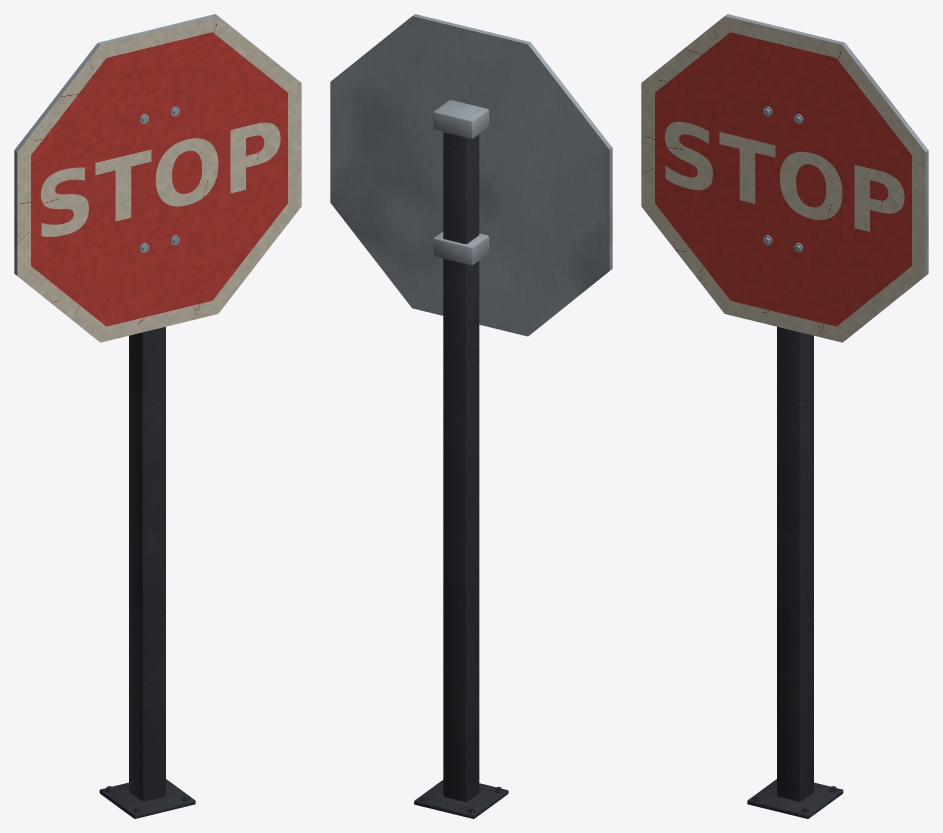
Rendered from stop_sign.glb.
3 renders of one model, left to right at view 1: azimuth 30°, elevation 25°; view 2: azimuth 150°, elevation 25°; view 3: azimuth 330°, elevation 25°, orthographic.
Parts seen in each view (by area): view 1: StopSignMesh; view 2: StopSignMesh; view 3: StopSignMesh.
Part boxes in pixels (x1,y1,x2,y2): StopSignMesh: [14, 14, 301, 818]; StopSignMesh: [330, 14, 612, 818]; StopSignMesh: [641, 14, 928, 818].
Size of the model in its own units: 0.5543 by 1.45 by 0.12.
Materials: 3 (3 with a texture image).
